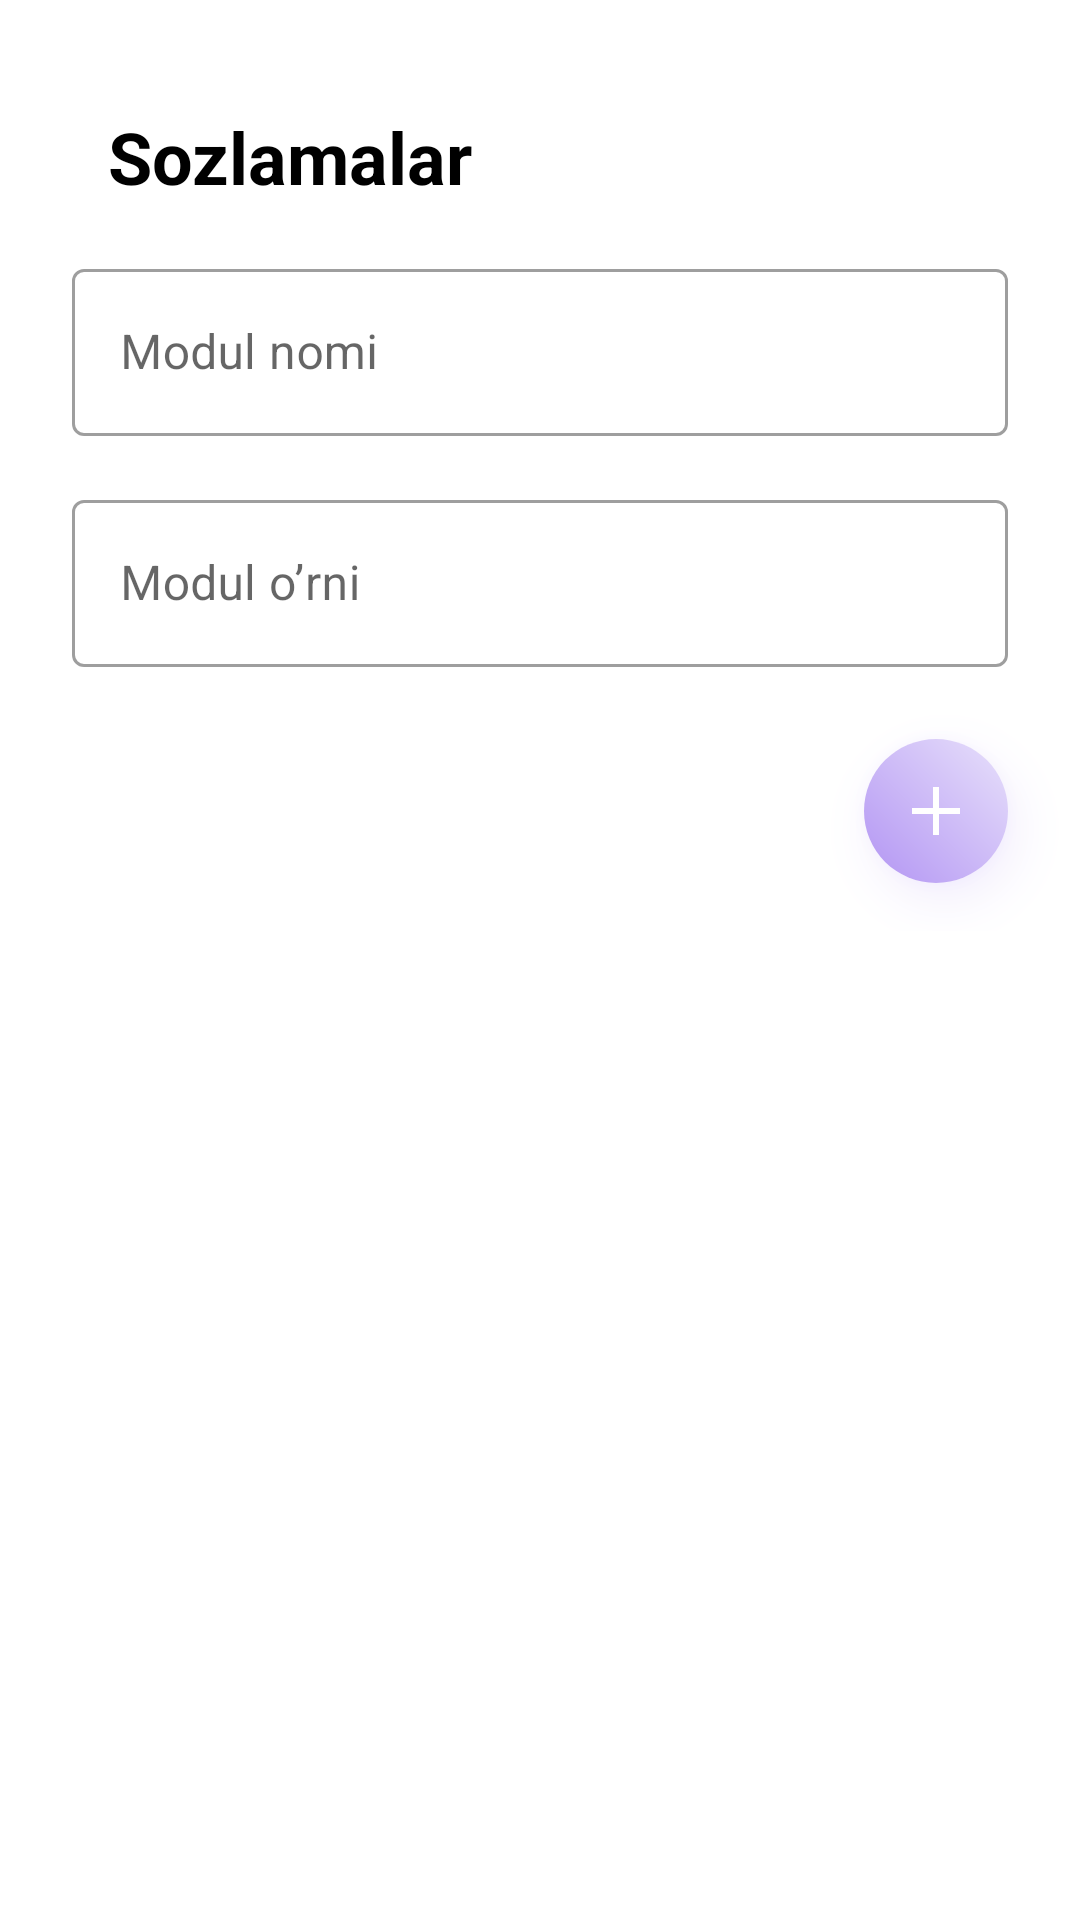

Named icons in this screenshot (1080×1920) and their bounding boxes, (x1, y1, x2, y2):
plus: (864, 739, 1008, 883)
